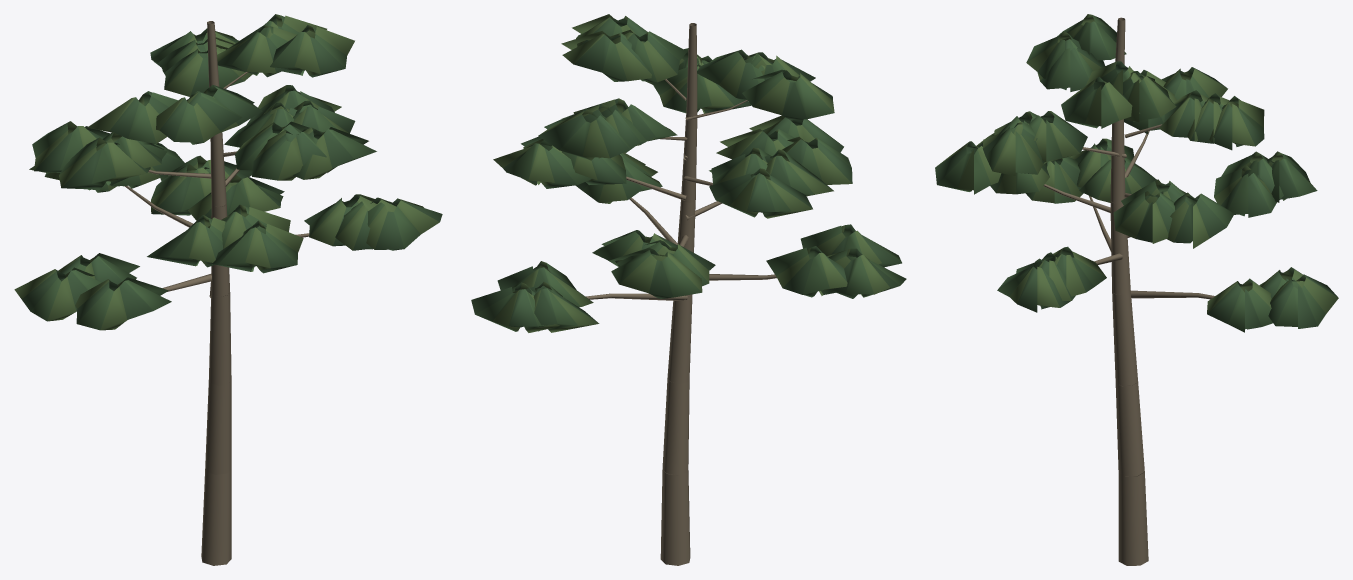
The model's file is PinFond_1.fbx.
3 renders of one model, left to right at view 1: azimuth 30°, elevation 25°; view 2: azimuth 150°, elevation 25°; view 3: azimuth 270°, elevation 25°, orthographic.
Visible parts, largest first — view 1: PinFond_1; view 2: PinFond_1; view 3: PinFond_1.
Boxes of the visible parts, box(x1,y1,x2,y2) form: PinFond_1: box(14, 14, 442, 565); PinFond_1: box(471, 14, 906, 565); PinFond_1: box(935, 14, 1338, 565).
Bounding box in the file's own units: 651 × 881 × 602.
